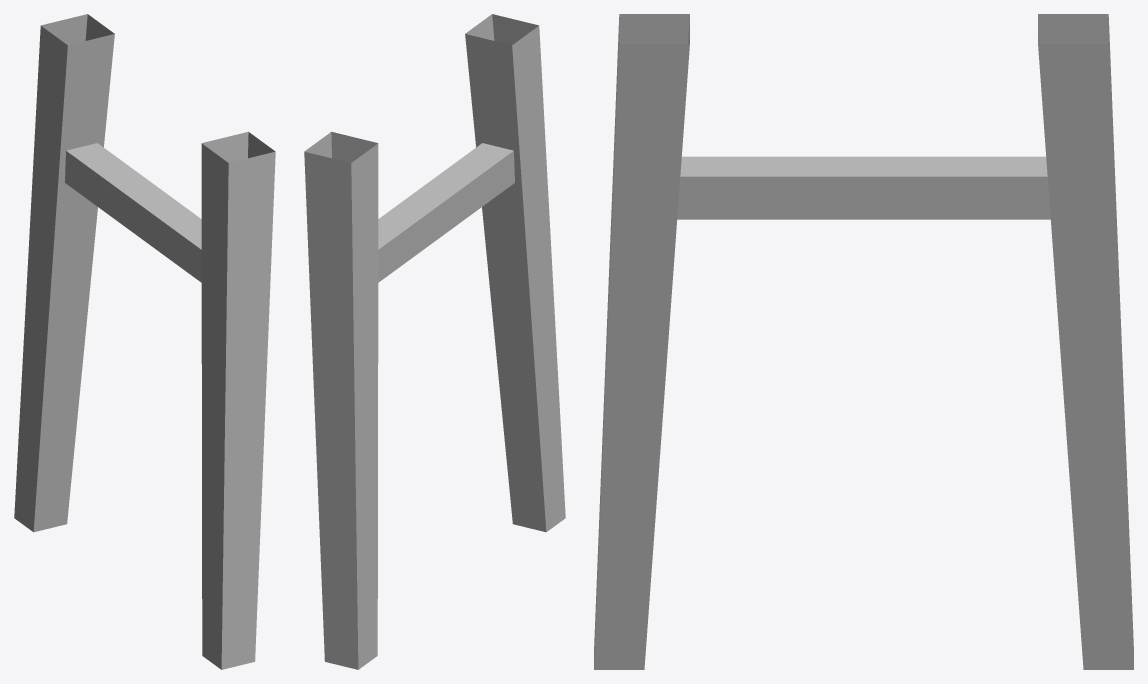
Rendered from Itr_Chair2_Leg_06.FBX.
3 renders of one model, left to right at view 1: azimuth 30°, elevation 25°; view 2: azimuth 150°, elevation 25°; view 3: azimuth 270°, elevation 25°, orthographic. The views are drawn at different scales.
Visible parts, largest first — view 1: Itr_Chair2_Leg_06; view 2: Itr_Chair2_Leg_06; view 3: Itr_Chair2_Leg_06.
Boxes of the visible parts, bbox=[...] form: Itr_Chair2_Leg_06: bbox=[14, 14, 275, 669]; Itr_Chair2_Leg_06: bbox=[304, 14, 565, 669]; Itr_Chair2_Leg_06: bbox=[594, 14, 1133, 669].
Bounding box in the file's own units: 2.2 × 16.33 × 12.38.
